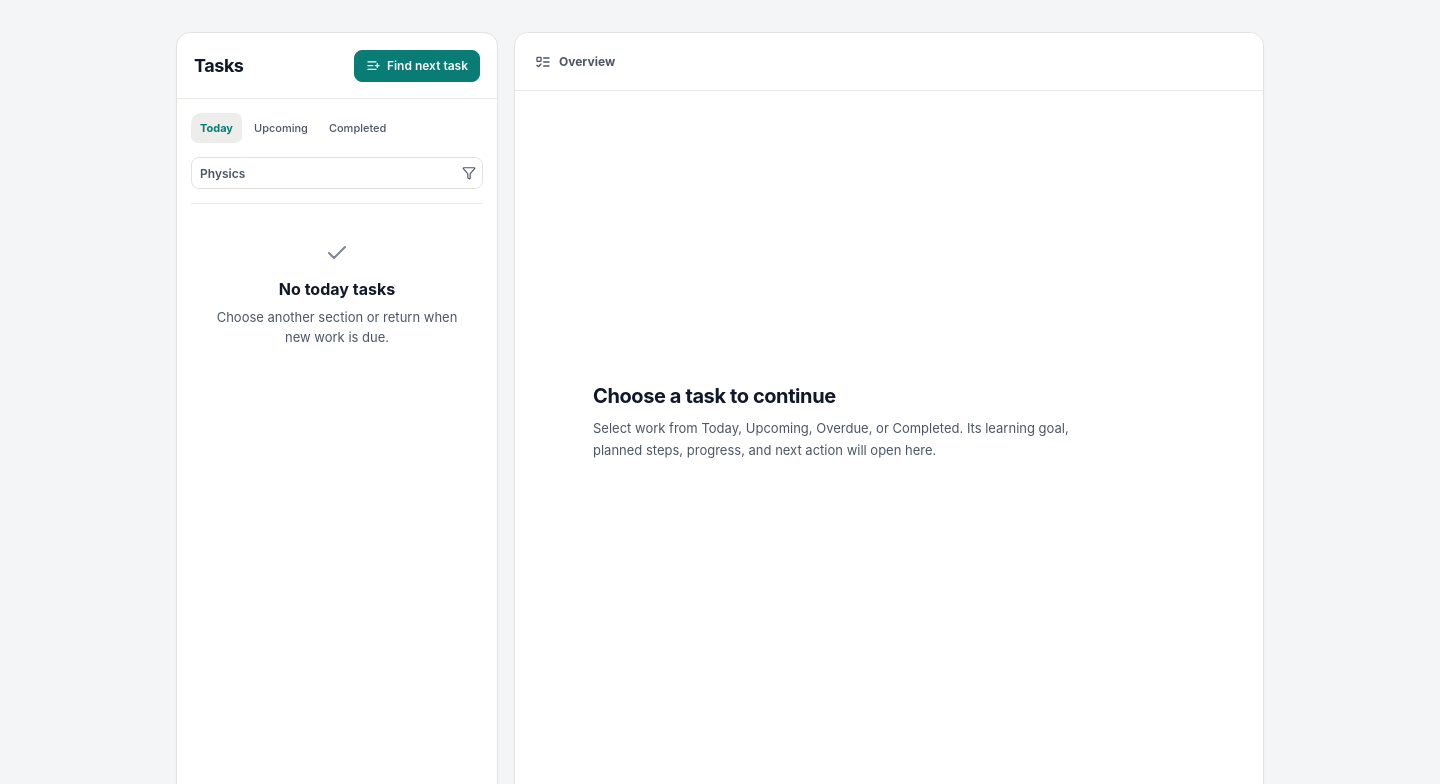
LearningFeedPage autonomous learning › keeps the validated course scope in the URL without dropping a task deep link
The width and height of the screenshot is (1440, 784).
Check: the heading "Persisted limits task" is not shown
Check: the text "Expected steps" is not shown
Select "Calculus" in the dropdown named "Select course for learning feed" at {"x": 341, "y": 173}, box x1=200 y1=166 x2=482 y2=180
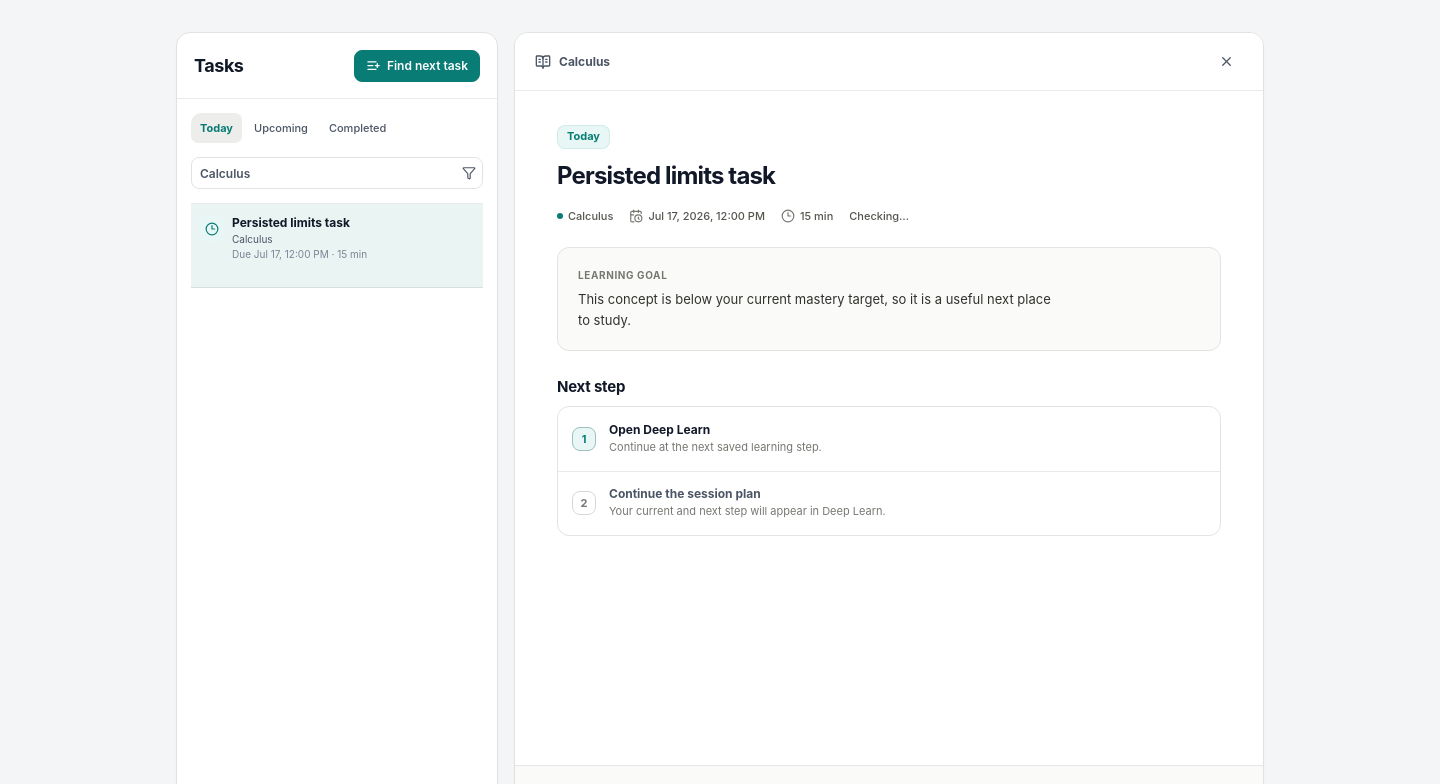
Check: the heading "Persisted limits task" is shown, box x1=557 y1=161 x2=775 y2=190
